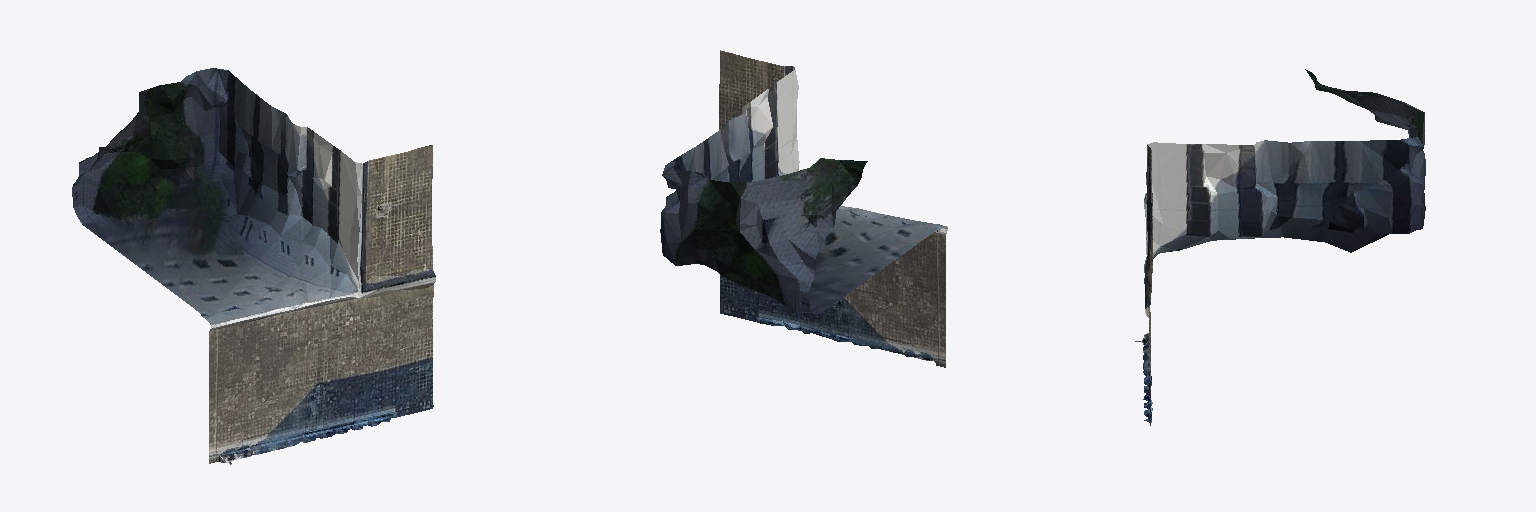
The picture shows the model from 3 angles: view 1: azimuth 30°, elevation 25°; view 2: azimuth 150°, elevation 25°; view 3: azimuth 270°, elevation 25°; orthographic projection.
Visible parts, largest first — view 1: obj_0; view 2: obj_0; view 3: obj_0.
Boxes of the visible parts, x1=… form: obj_0: x1=72, y1=68, x2=435, y2=464; obj_0: x1=660, y1=50, x2=947, y2=367; obj_0: x1=1135, y1=69, x2=1425, y2=425.
Bounding box in the file's own units: 20.08 × 22.6 × 22.52.
Materials: 1 (1 with a texture image).